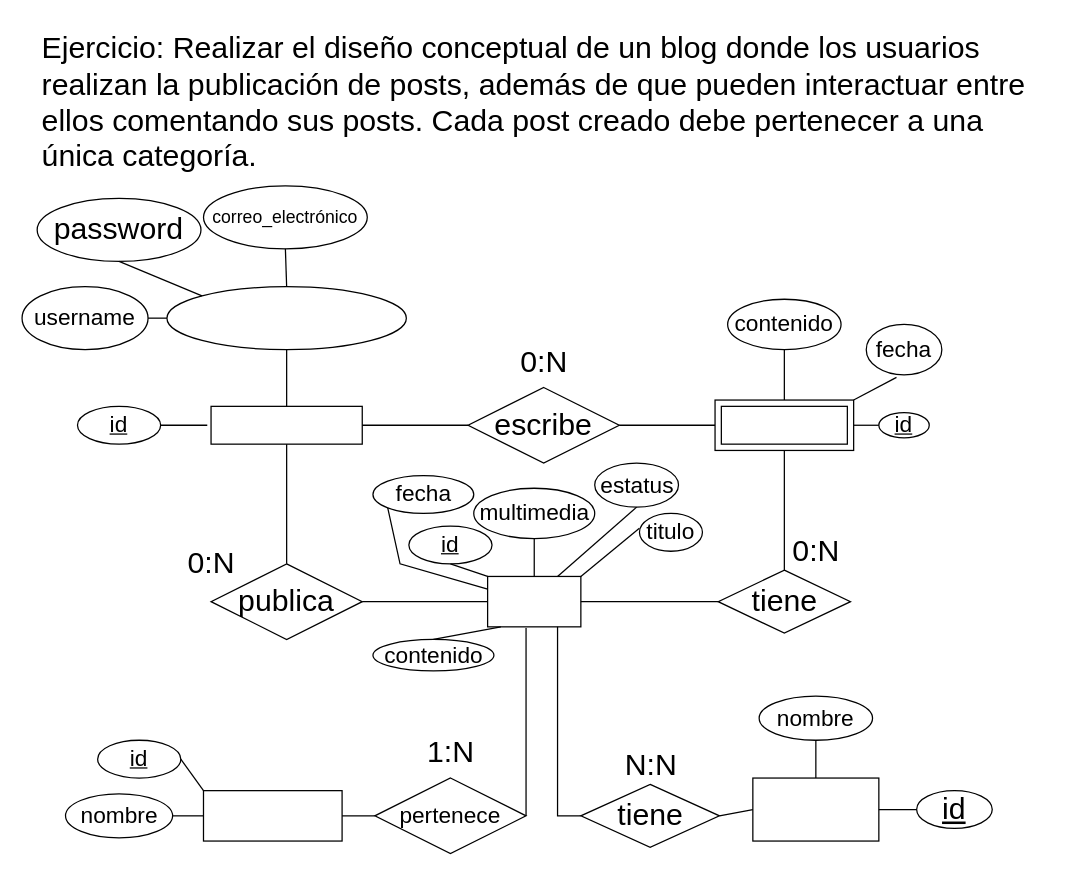
Image size: 1070x876. Some labels were removed from this diagram. Each missing label, with the centre of its shape:
"categoria" belongs at [272,815].
"comentario" belongs at [784,424].
"datos_contacto" belongs at [286,317].
"etiqueta" belongs at [815,809].
"post" belongs at [533,601].
"usuario" belongs at [286,424].
